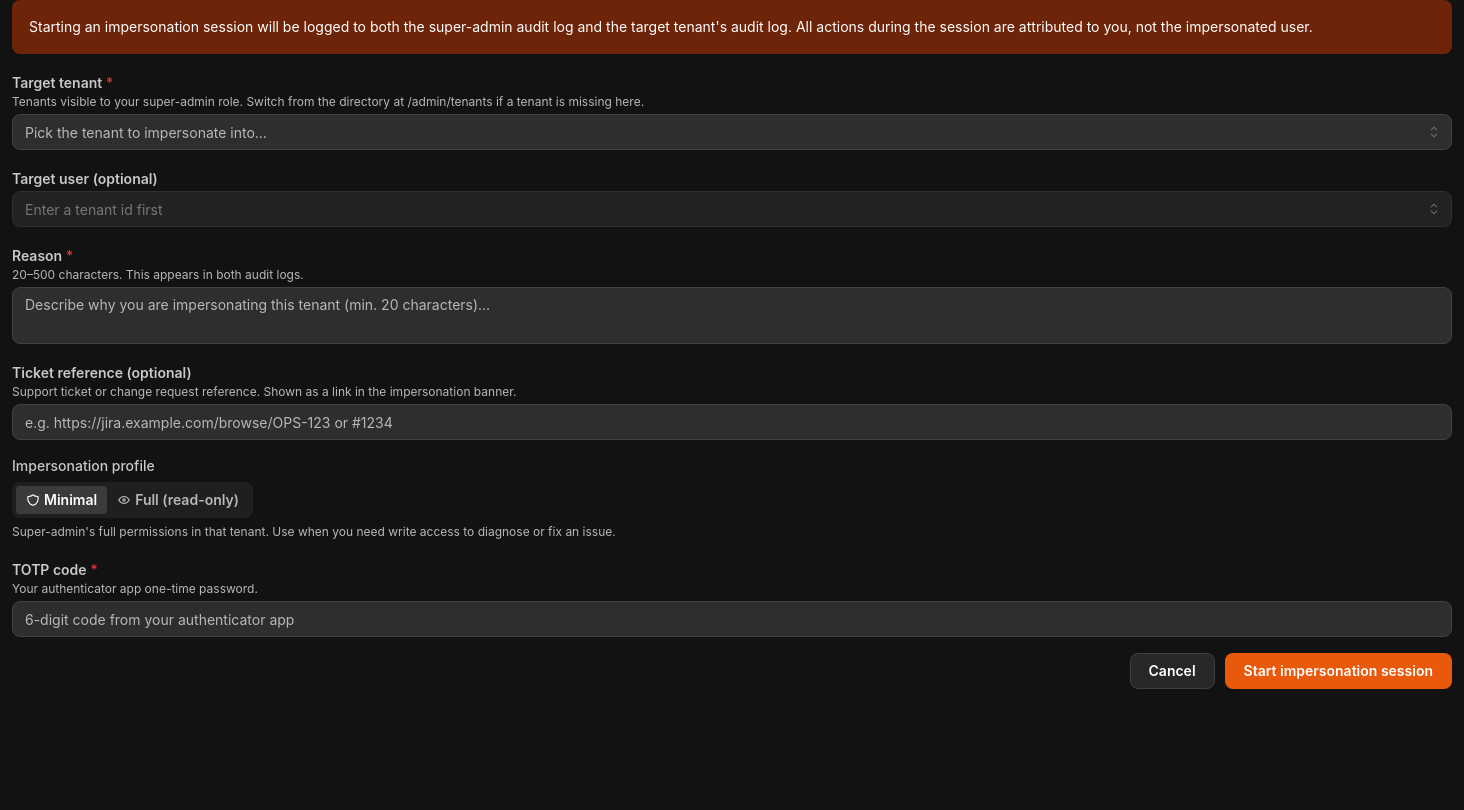
Test: ImpersonationEntryForm › shows additional scope selector when profile is full
Find the "Full (read-only)" option in the SegmentedControl
What coordinates should you click on to do the following:
click the text "Full (read-only)"
I would click on:
 (187, 500)
Its box is [135,489,239,511].
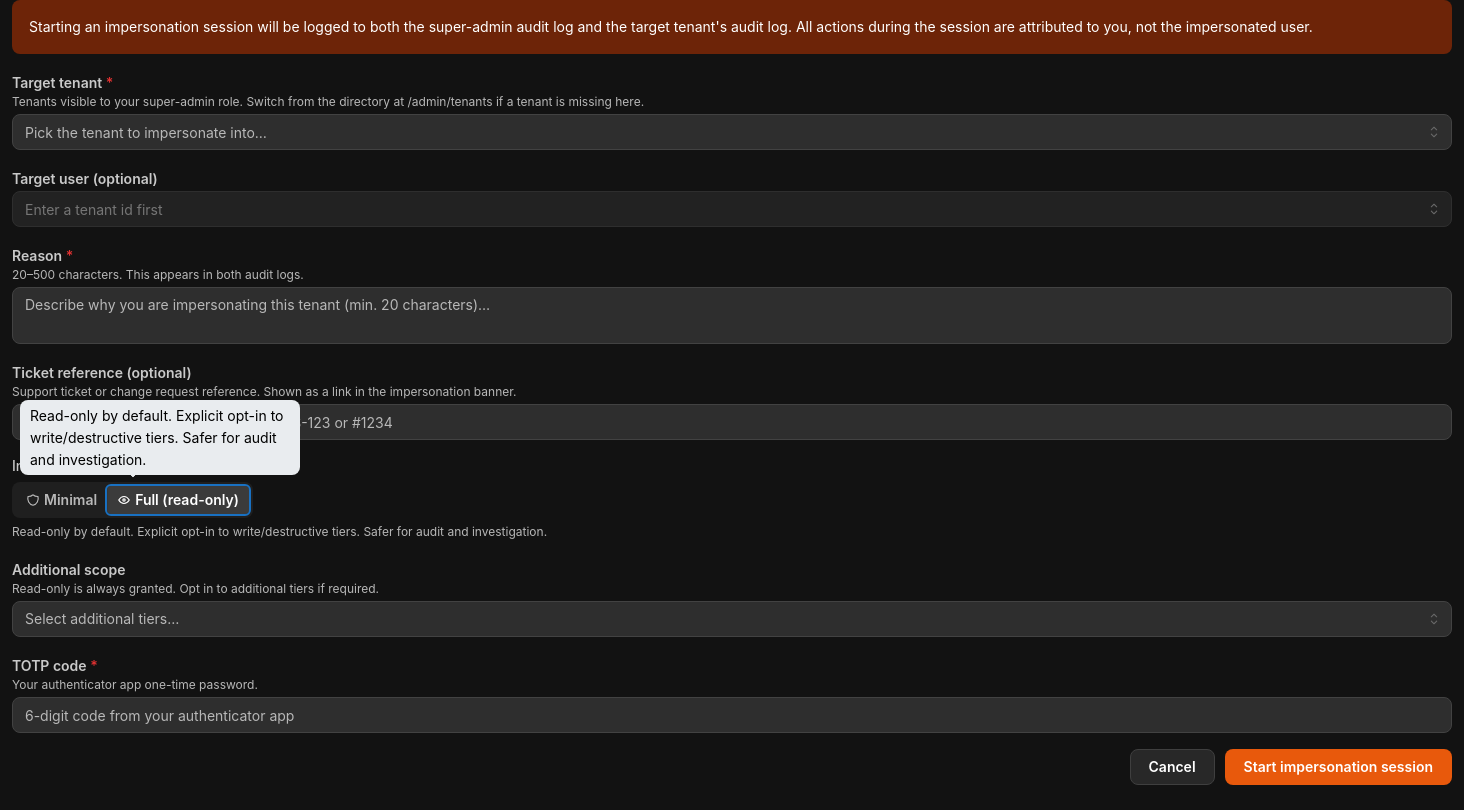
Expected: the text "Additional scope" is shown, [12,559,125,580]
